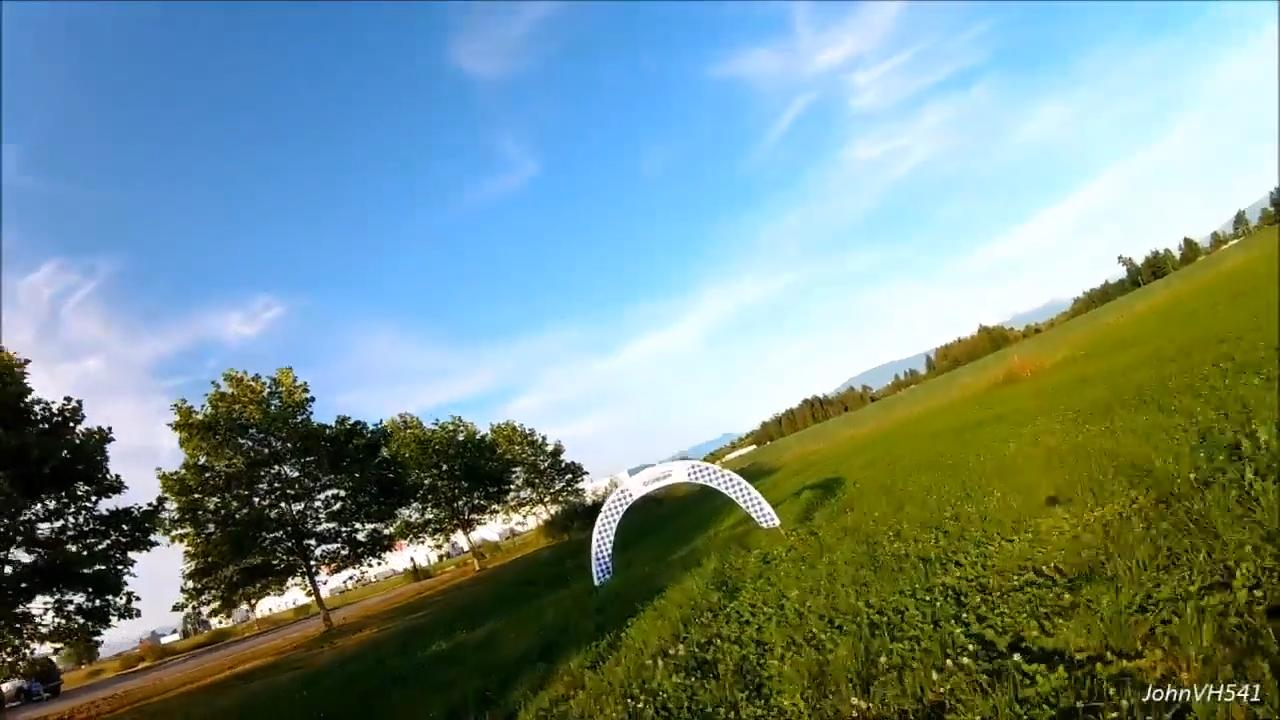gate: (588, 459, 783, 586)
